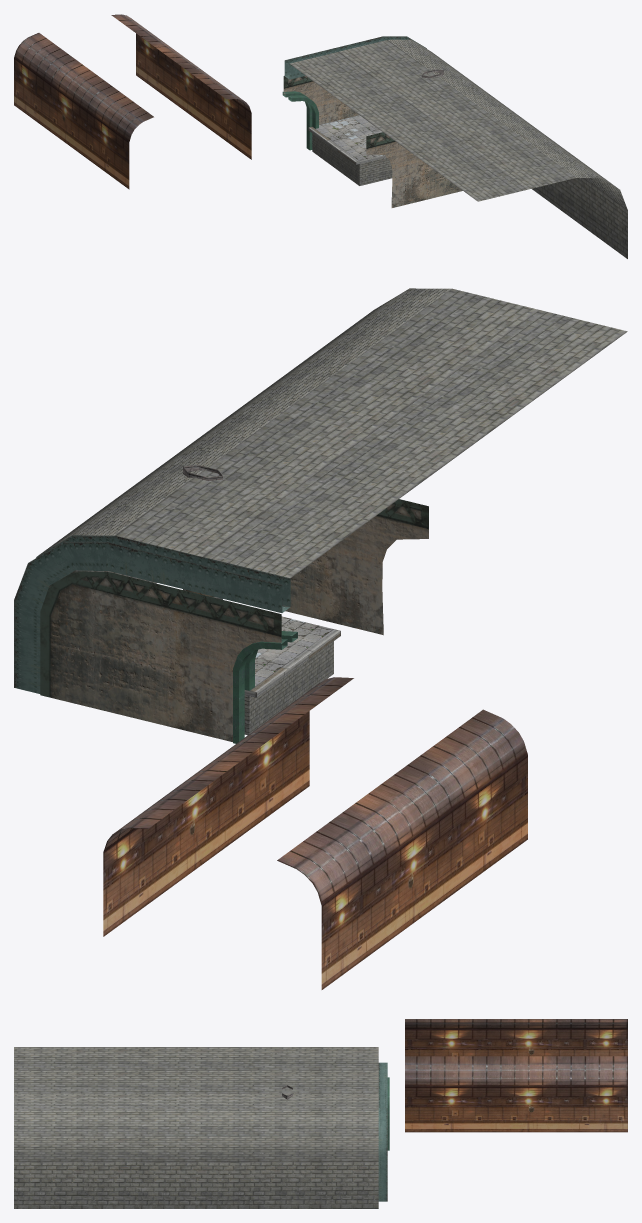
File: station_march_7_2016.FBX
The picture shows the model from 3 angles, top to bottom: view 1: azimuth 30°, elevation 25°; view 2: azimuth 150°, elevation 25°; view 3: azimuth 270°, elevation 25°; orthographic projection. The views are drawn at different scales.
Parts seen in each view (by area): view 1: st_body, st_tunnel_left, st_tunnel, st_base, st_rwall, st_l_wall, st_big_arch, st_small_arch2; view 2: st_body, st_tunnel_left, st_l_wall, st_tunnel, st_big_arch, st_rwall, st_base, st_small_arch2; view 3: st_body, st_tunnel, st_tunnel_left, st_big_arch.
Boxes of the visible parts, box(x1,y1,x2,y2) form: st_body: box(290, 39, 627, 258); st_tunnel_left: box(14, 33, 153, 189); st_tunnel: box(111, 14, 251, 159); st_base: box(308, 115, 392, 185); st_rwall: box(366, 132, 462, 207); st_l_wall: box(283, 76, 358, 124); st_big_arch: box(284, 36, 426, 79); st_small_arch2: box(282, 91, 312, 150); st_body: box(38, 288, 627, 583); st_tunnel_left: box(277, 709, 527, 989); st_l_wall: box(40, 571, 281, 741); st_tunnel: box(103, 677, 353, 936); st_big_arch: box(14, 535, 290, 693); st_rwall: box(285, 499, 428, 635); st_base: box(244, 616, 340, 735); st_small_arch2: box(233, 639, 287, 743); st_body: box(14, 1047, 378, 1208); st_tunnel: box(405, 1056, 627, 1132); st_tunnel_left: box(405, 1019, 627, 1056); st_big_arch: box(378, 1062, 387, 1201).
Bounding box in the file's own units: 870 × 286 × 1615.
